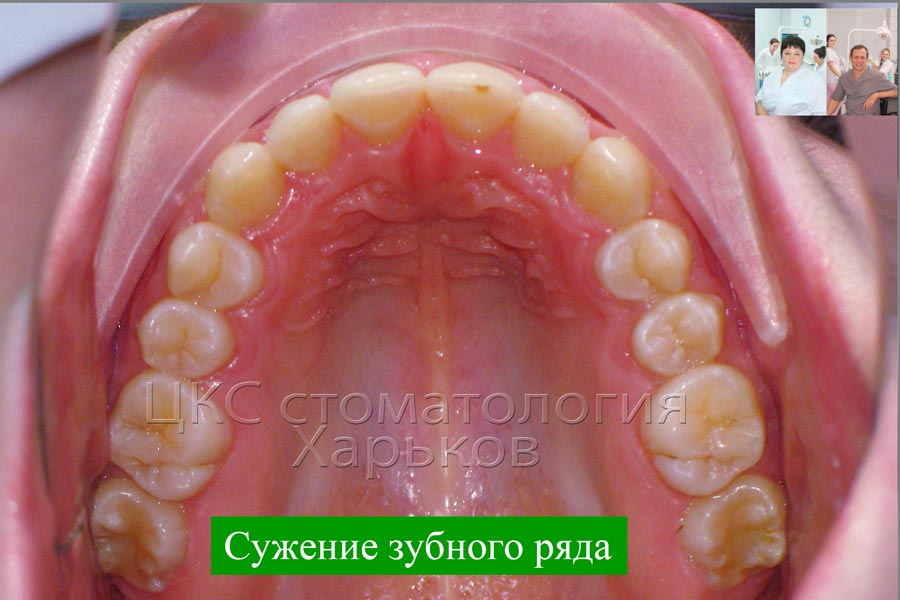UL1BC_healthy: (595, 225, 680, 306)
UL2BC_healthy: (634, 290, 725, 375)
ULCI_healthy: (431, 67, 514, 140)
ULC_healthy: (578, 150, 647, 225)
ULLI_healthy: (514, 101, 585, 171)
UR1BC_healthy: (164, 221, 264, 312)
UR2BC_healthy: (142, 306, 244, 369)
URCI_healthy: (333, 65, 425, 151)
URC_healthy: (206, 143, 288, 233)
URLI_healthy: (268, 99, 341, 174)
